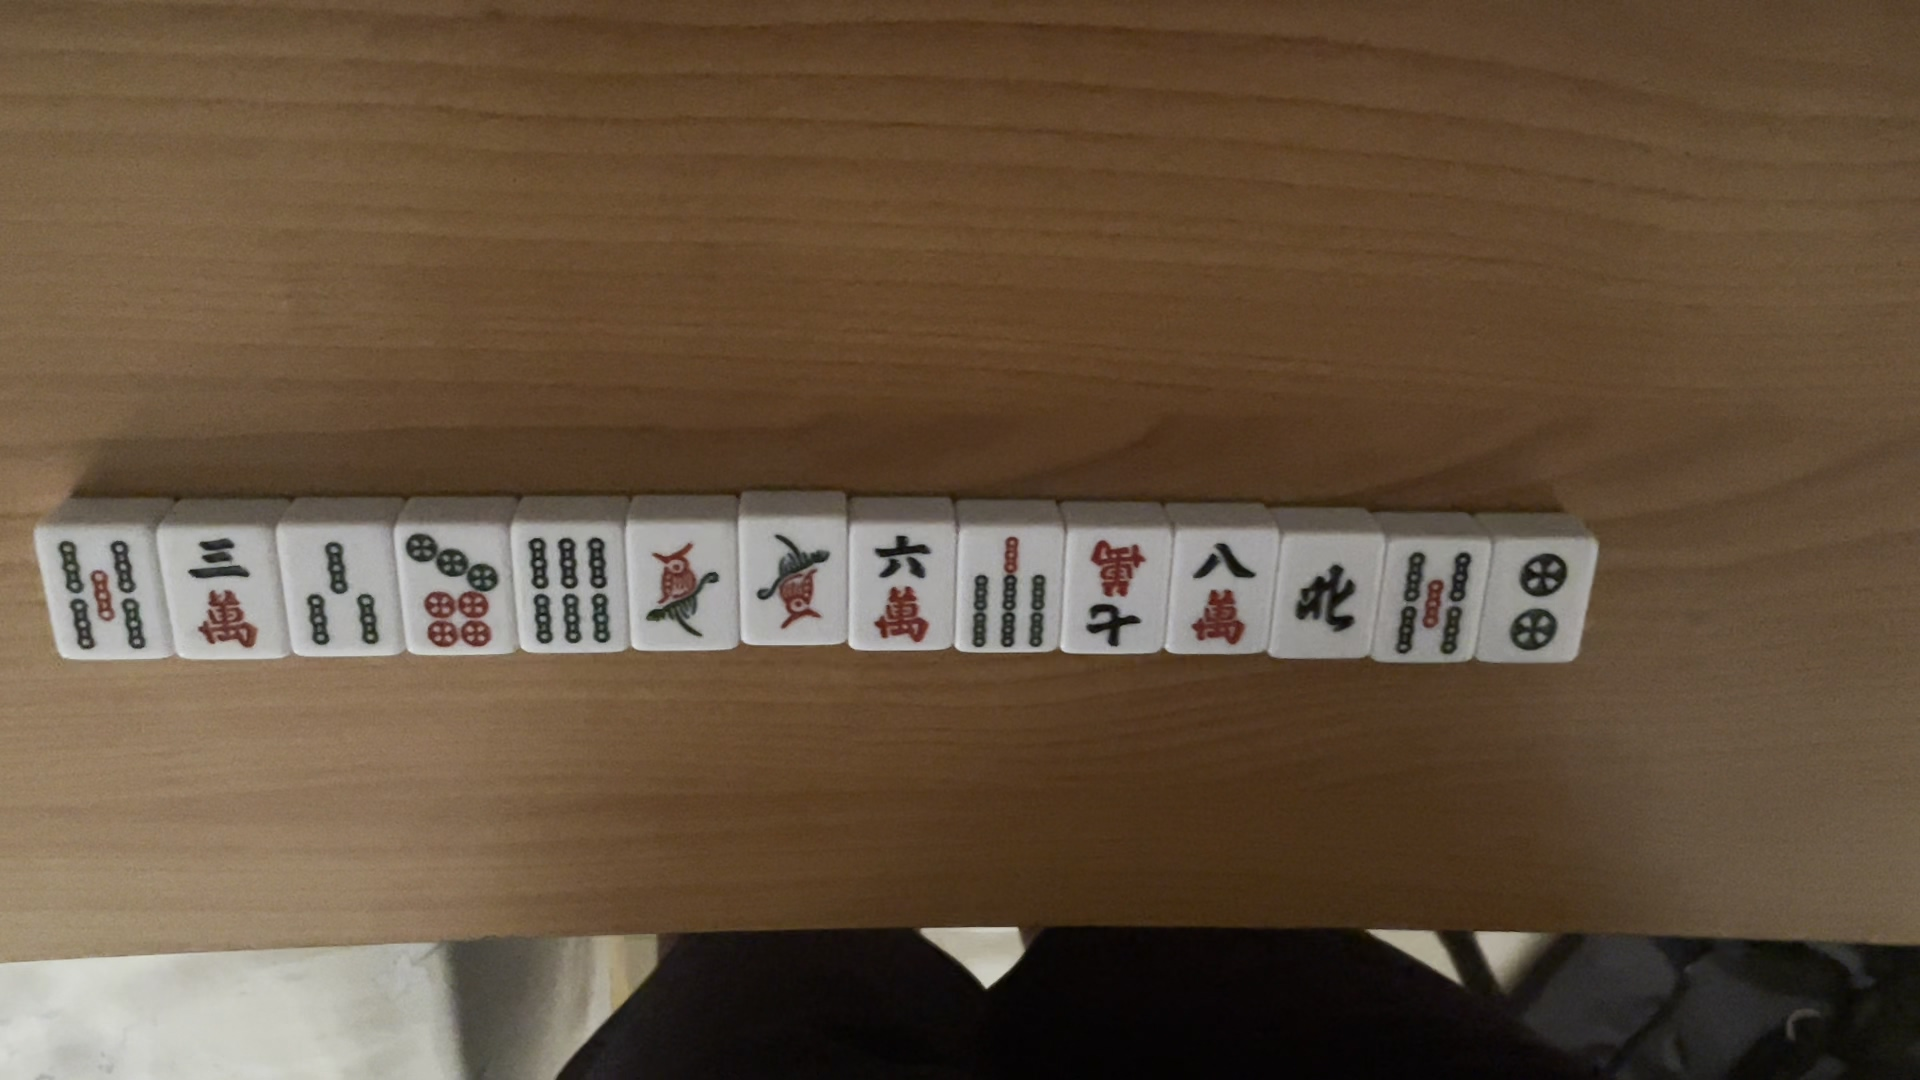b-1: (754, 524, 845, 647), (641, 541, 728, 641)
b-3: (289, 531, 386, 655)
b-5: (49, 533, 156, 663), (1379, 539, 1481, 663)
b-6: (522, 527, 612, 650)
b-7: (961, 533, 1058, 650)
c-3: (174, 534, 268, 653)
c-6: (858, 527, 944, 651)
c-7: (1068, 535, 1149, 647)
c-8: (1182, 541, 1262, 646)
d-2: (1499, 550, 1575, 655)
d-7: (400, 525, 504, 650)
honors-north: (1283, 556, 1373, 638)
